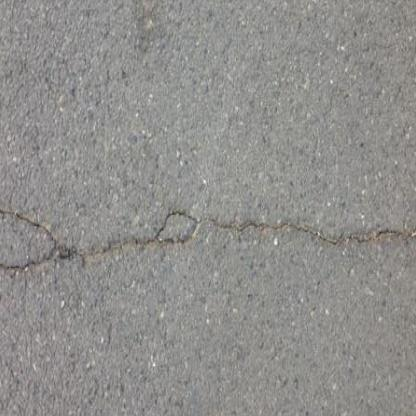Cracks: (0, 191, 416, 301)
